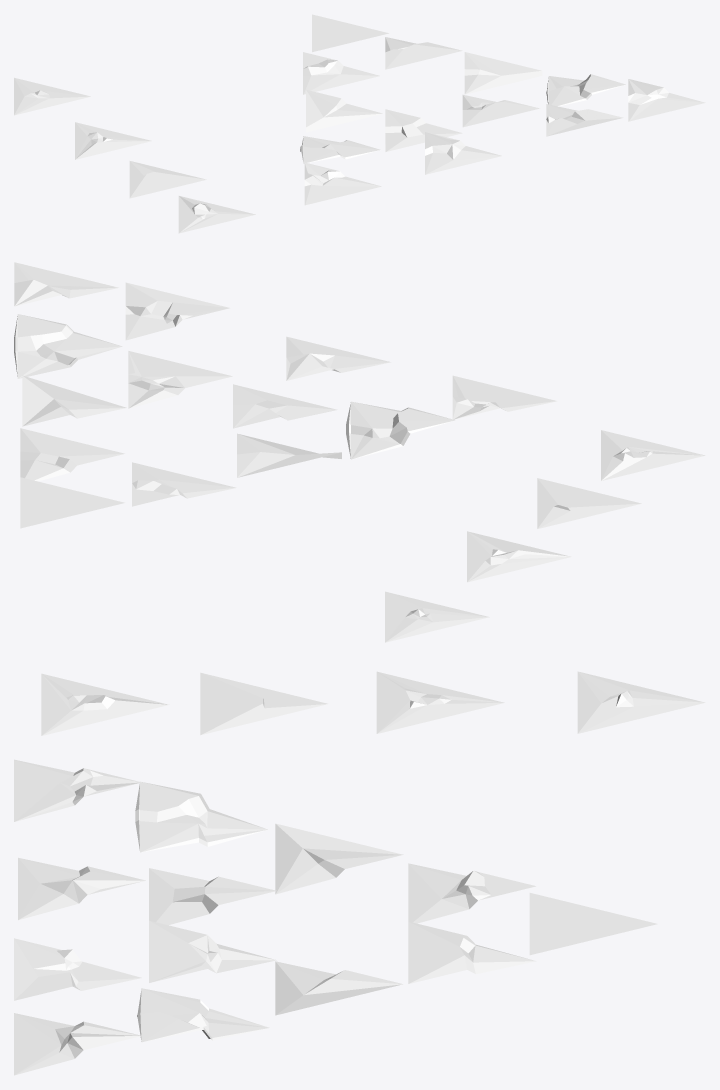
File: scandinavian_biome_tiles.fbx
3 views of the same model, one above another, from view 1: azimuth 30°, elevation 25°; view 2: azimuth 150°, elevation 25°; view 3: azimuth 270°, elevation 25° (orthographic). The views are drawn at different scales.
Parts seen in each view (by area): view 1: arctic_biome_cliff_1_end_left_a_low, arctic_biome_cliff_1_convex_path_a_low, arctic_biome_cliff_1_convex_b_low, arctic_biome_cliff_1_convex_c_low, arctic_biome_cliff_1_end_right_a_low, arctic_biome_cliff_1_convex_a_low, arctic_biome_cliff_1_convex_arch_low, arctic_biome_flat_rock_d_low, arctic_biome_flat_rock_c_low, arctic_biome_cliff_1_multi_left_low, arctic_biome_flat_snow_a_low, arctic_biome_flat_rock_a_low (+5 smaller); view 2: arctic_biome_cliff_1_multi_left_low, arctic_biome_cliff_1_multi_right_low, arctic_biome_cliff_1_concave_path_a_low, arctic_biome_cliff_1_concave_b_low, arctic_biome_cliff_1_concave_a_low, arctic_biome_flat_snow_a_low, arctic_biome_flat_rock_c_low, arctic_biome_flat_rock_b_low, arctic_biome_flat_rock_a_low, arctic_biome_flat_rock_d_low, arctic_biome_cliff_1_end_left_a_low, arctic_biome_cliff_1_convex_path_a_low (+5 smaller); view 3: arctic_biome_cliff_1_multi_right_low, arctic_biome_cliff_1_end_right_a_low, arctic_biome_flat_snow_a_low, arctic_biome_cliff_1_convex_a_low, arctic_biome_flat_rock_a_low, arctic_biome_flat_rock_b_low, arctic_biome_flat_rock_c_low, arctic_biome_cliff_1_concave_path_a_low, arctic_biome_cliff_1_concave_a_low, arctic_biome_flat_rock_d_low, arctic_biome_cliff_1_convex_b_low, arctic_biome_cliff_1_convex_c_low (+5 smaller).
Boxes of the visible parts, bbox=[...] form: arctic_biome_cliff_1_end_left_a_low: bbox=[464, 52, 542, 94]; arctic_biome_cliff_1_convex_path_a_low: bbox=[304, 162, 381, 205]; arctic_biome_cliff_1_convex_b_low: bbox=[628, 79, 705, 121]; arctic_biome_cliff_1_convex_c_low: bbox=[425, 132, 501, 174]; arctic_biome_cliff_1_end_right_a_low: bbox=[306, 89, 382, 132]; arctic_biome_cliff_1_convex_a_low: bbox=[303, 52, 379, 94]; arctic_biome_cliff_1_convex_arch_low: bbox=[385, 109, 462, 151]; arctic_biome_flat_rock_d_low: bbox=[178, 196, 255, 233]; arctic_biome_flat_rock_c_low: bbox=[129, 161, 206, 198]; arctic_biome_cliff_1_multi_left_low: bbox=[546, 74, 625, 106]; arctic_biome_flat_snow_a_low: bbox=[312, 14, 388, 52]; arctic_biome_flat_rock_a_low: bbox=[14, 77, 90, 115]; arctic_biome_cliff_1_multi_left_low: bbox=[14, 314, 122, 378]; arctic_biome_cliff_1_multi_right_low: bbox=[346, 401, 455, 459]; arctic_biome_cliff_1_concave_path_a_low: bbox=[125, 282, 229, 340]; arctic_biome_cliff_1_concave_b_low: bbox=[128, 351, 232, 408]; arctic_biome_cliff_1_concave_a_low: bbox=[20, 428, 124, 481]; arctic_biome_flat_snow_a_low: bbox=[20, 477, 124, 528]; arctic_biome_flat_rock_c_low: bbox=[537, 478, 641, 528]; arctic_biome_flat_rock_b_low: bbox=[467, 531, 571, 582]; arctic_biome_flat_rock_a_low: bbox=[385, 591, 489, 642]; arctic_biome_flat_rock_d_low: bbox=[601, 430, 705, 480]; arctic_biome_cliff_1_end_left_a_low: bbox=[22, 375, 126, 426]; arctic_biome_cliff_1_convex_path_a_low: bbox=[452, 375, 557, 419]; arctic_biome_cliff_1_multi_right_low: bbox=[135, 781, 267, 852]; arctic_biome_cliff_1_end_right_a_low: bbox=[275, 823, 403, 894]; arctic_biome_flat_snow_a_low: bbox=[529, 893, 657, 955]; arctic_biome_cliff_1_convex_a_low: bbox=[408, 863, 535, 923]; arctic_biome_flat_rock_a_low: bbox=[577, 671, 705, 733]; arctic_biome_flat_rock_b_low: bbox=[376, 671, 504, 733]; arctic_biome_flat_rock_c_low: bbox=[200, 672, 327, 735]; arctic_biome_cliff_1_concave_path_a_low: bbox=[14, 938, 141, 1000]; arctic_biome_cliff_1_concave_a_low: bbox=[408, 921, 536, 983]; arctic_biome_flat_rock_d_low: bbox=[41, 673, 169, 735]; arctic_biome_cliff_1_convex_b_low: bbox=[14, 1013, 141, 1075]; arctic_biome_cliff_1_convex_c_low: bbox=[18, 857, 145, 920].
Size of the model in its own units: 8064 by 281 by 5601.
1 material, 1 textured.
